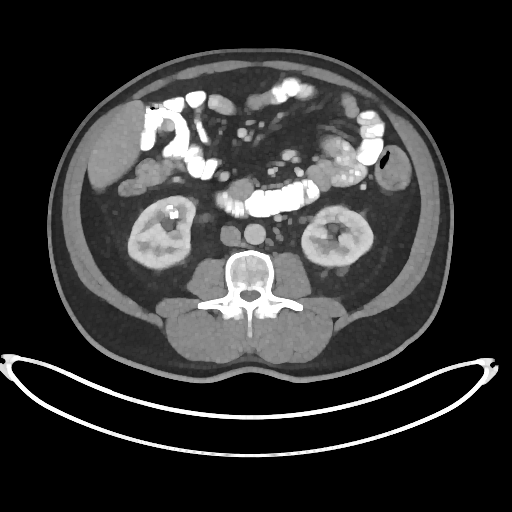Lesion: (160, 202, 181, 221)
